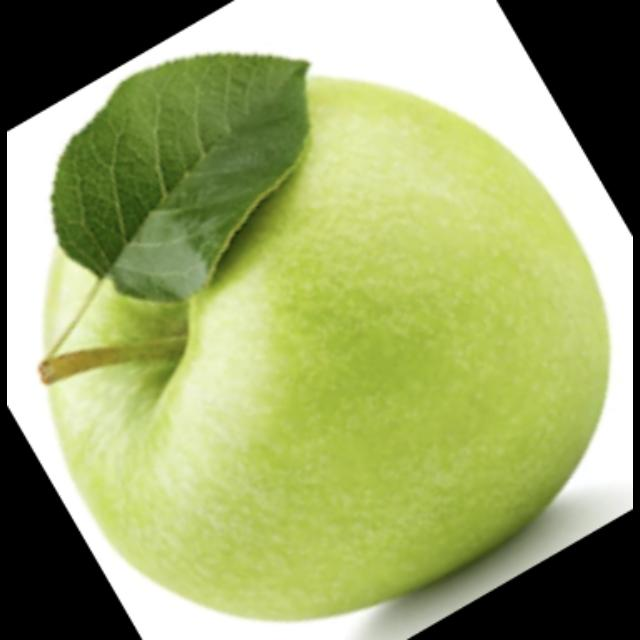Apel Segar: (34, 60, 622, 632)
